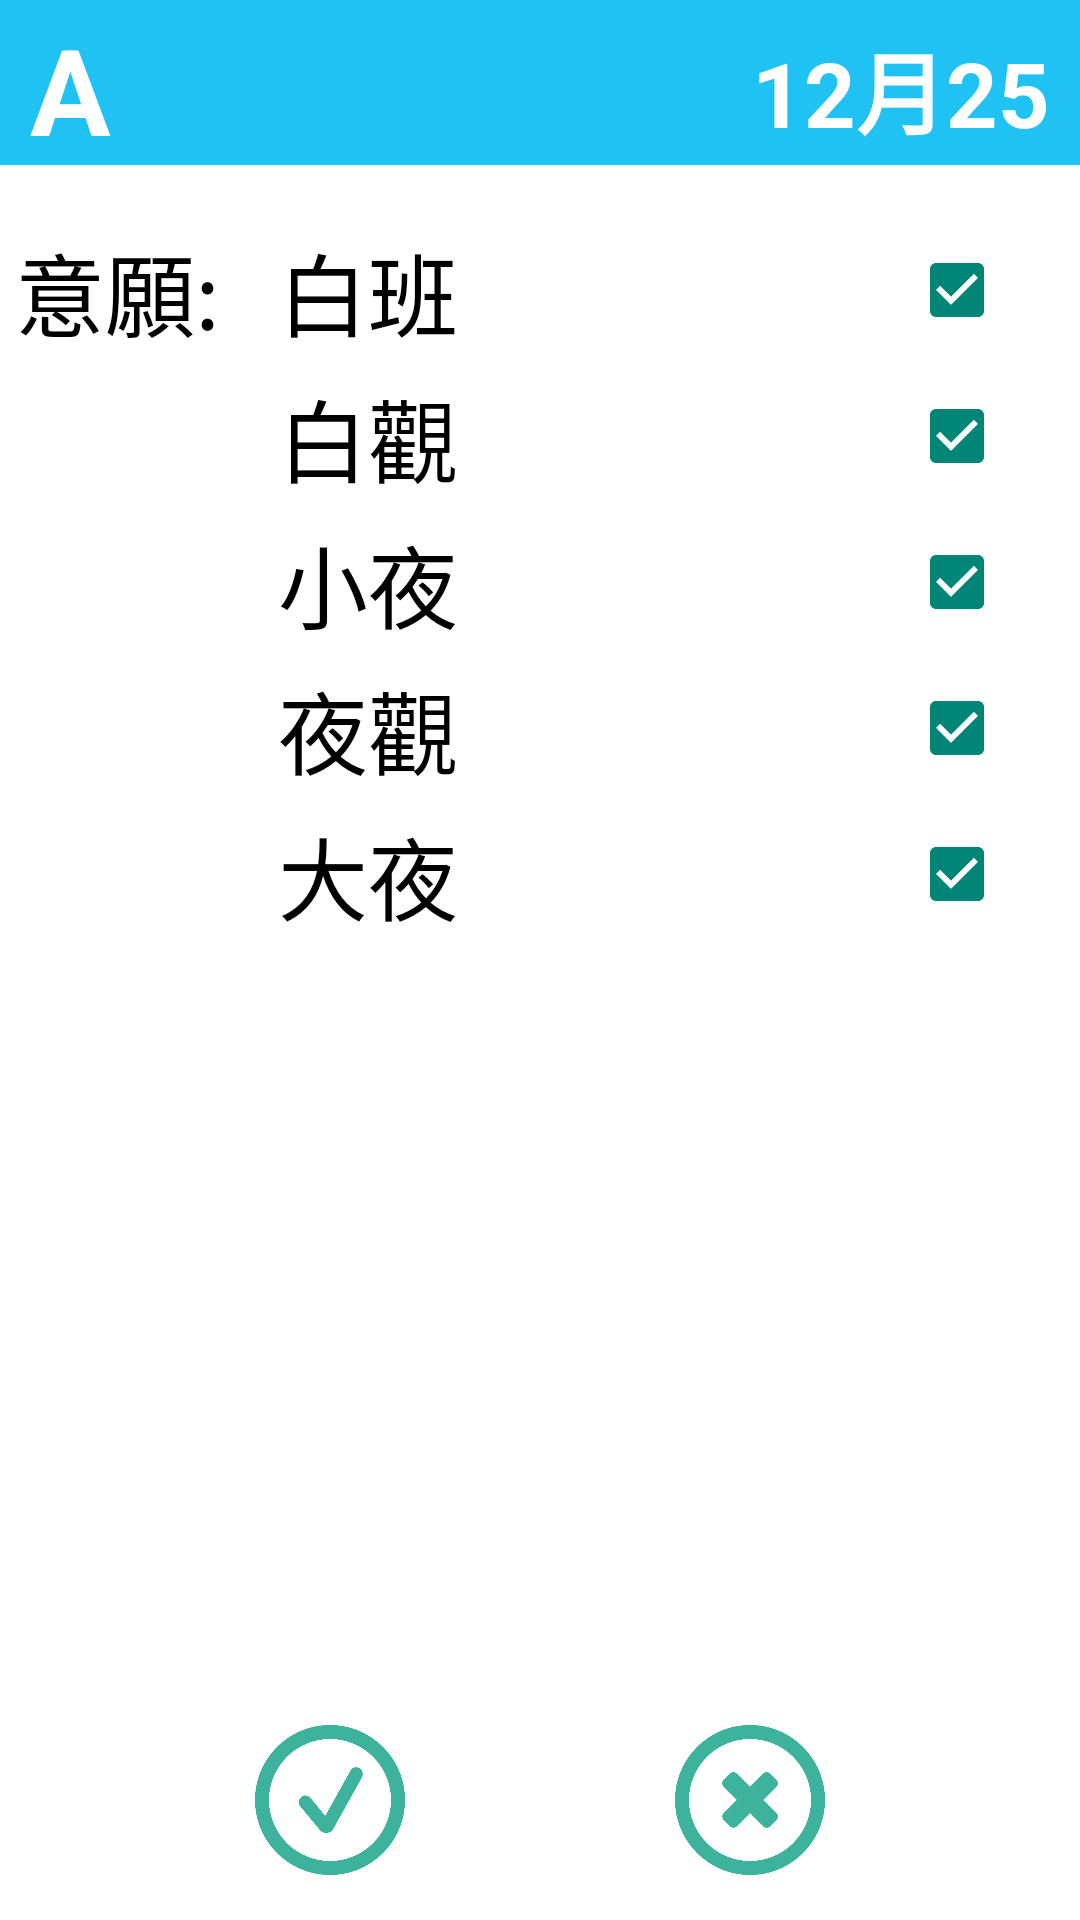

Named icons in this screenshot (1080w x 1920h) and their centers, point (x, y):
checked: point (330, 1800)
multiply: point (750, 1800)
